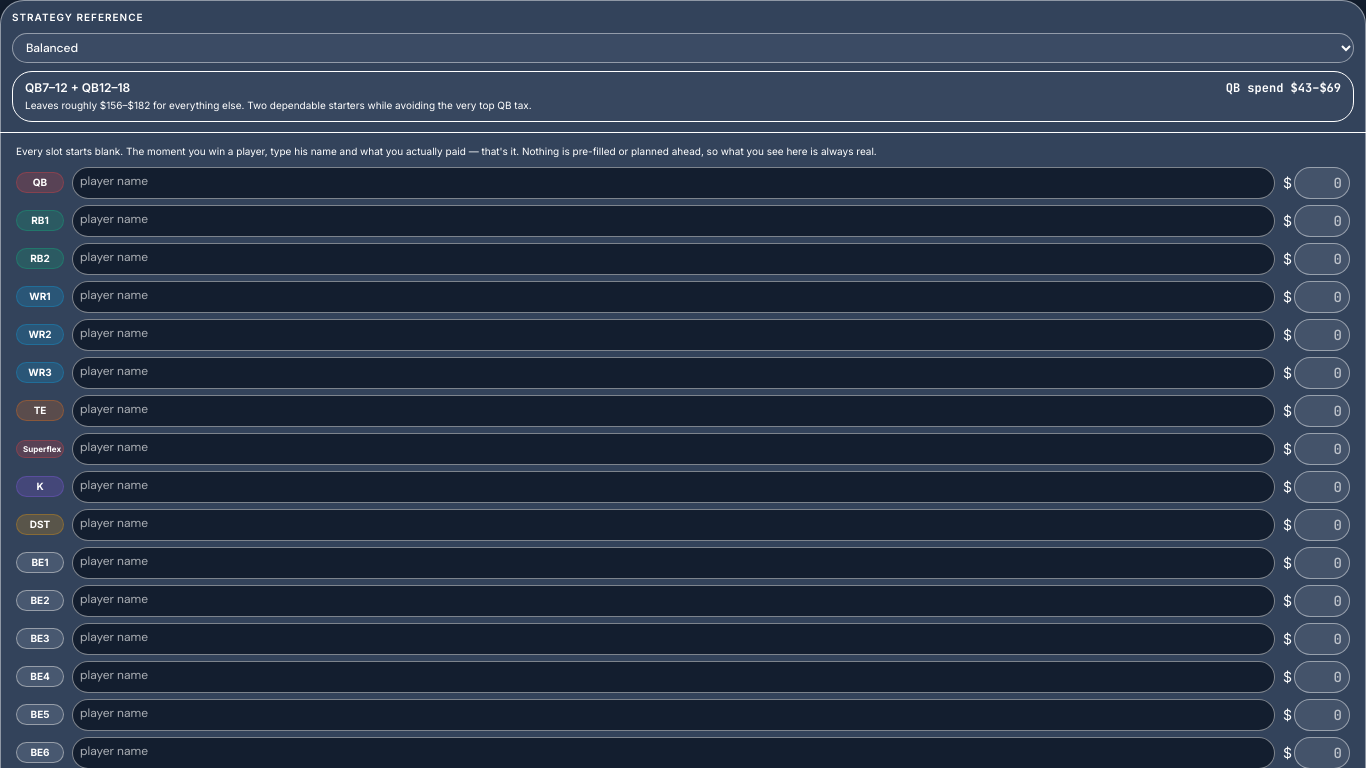
Test: PositionBudgetBar live interactions › supports the new v2 strategy options instead of only the legacy four
Select "Double Elite" in the dropdown named "Strategy reference" at (683, 48), box [12,33,1354,63]
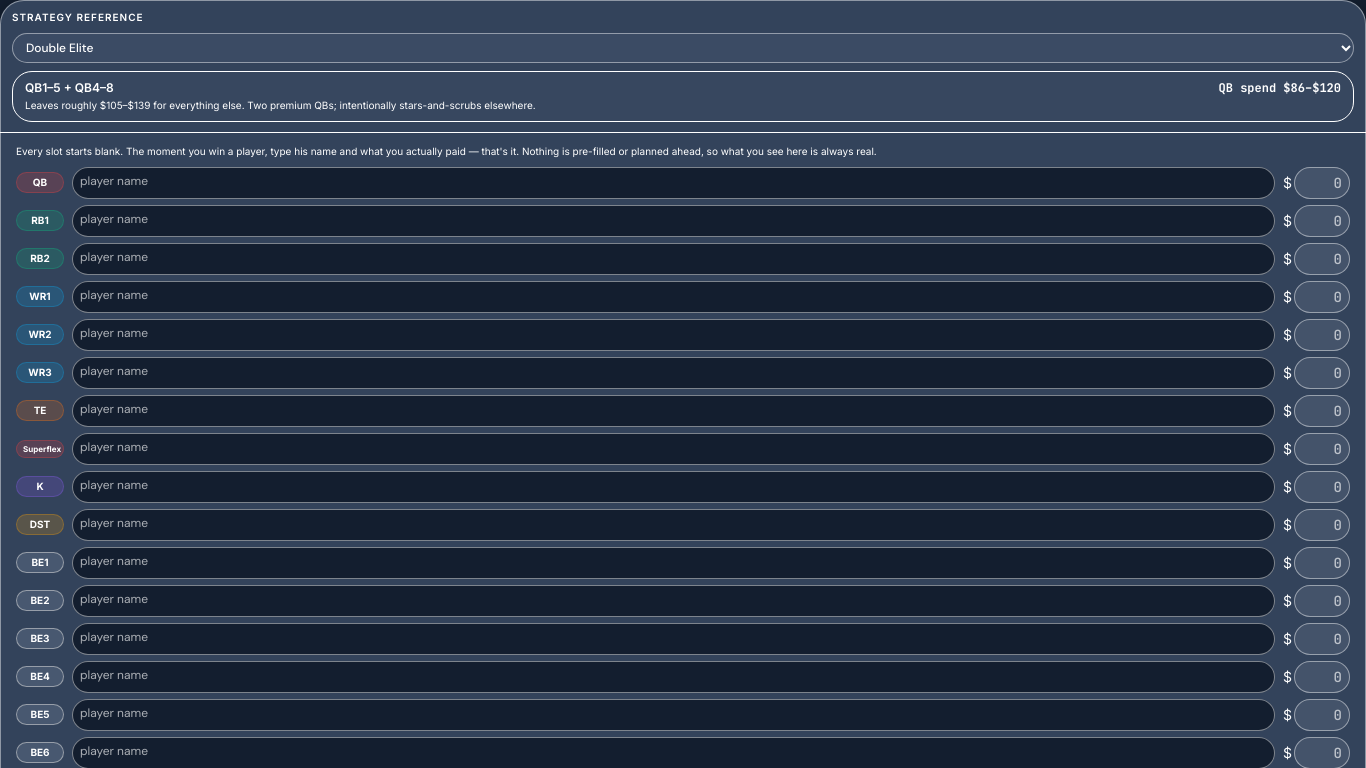
Now the text "QB1–5 + QB4–8" is shown, box [25,80,114,96]
Select "Value QB" in the dropdown named "Strategy reference" at (683, 48), box [12,33,1354,63]
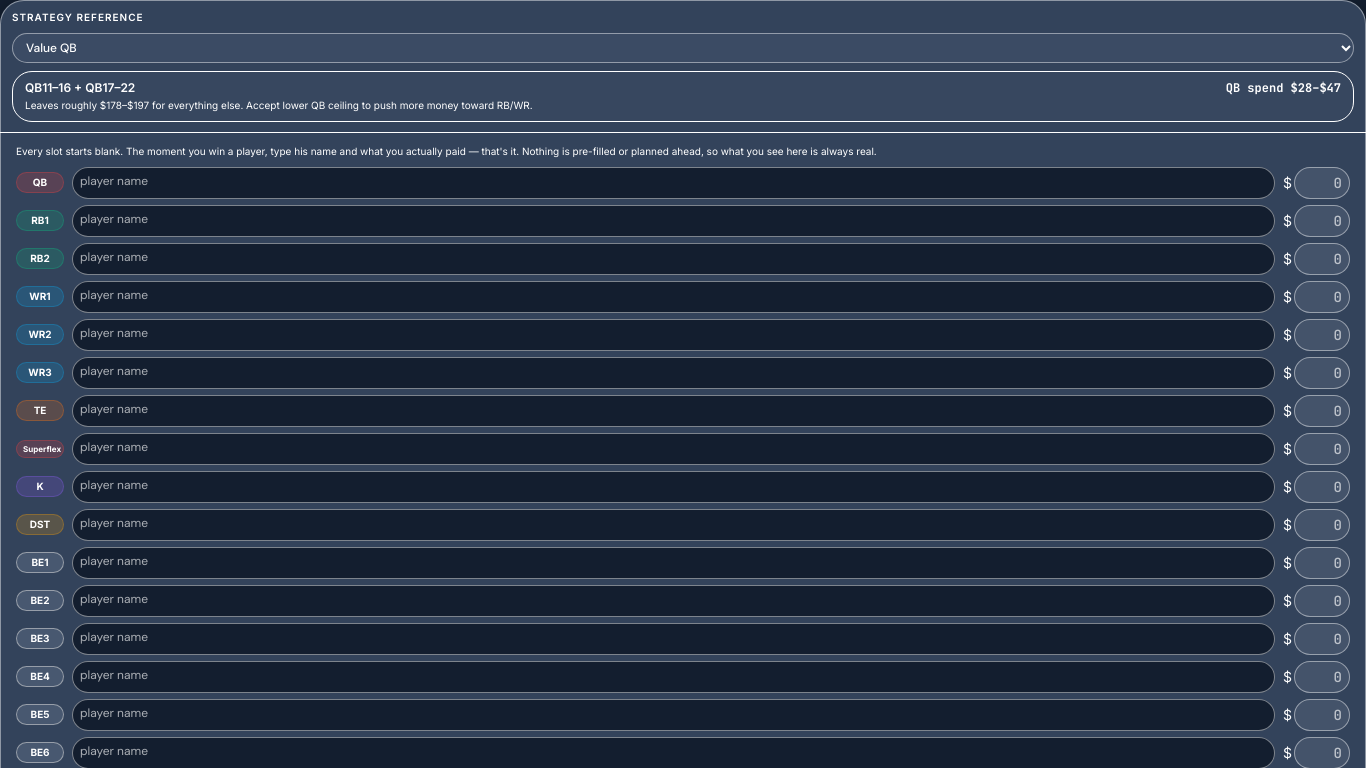
Now the text "QB11–16 + QB17–22" is shown, box [25,80,135,96]
